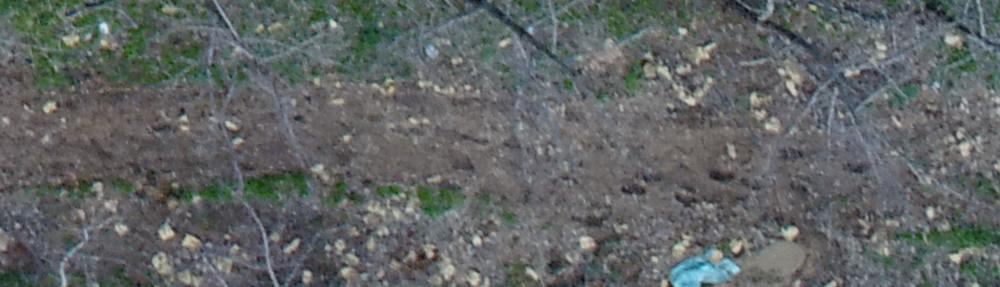apple: (134, 10, 364, 166), (693, 10, 913, 169), (412, 10, 657, 130)
